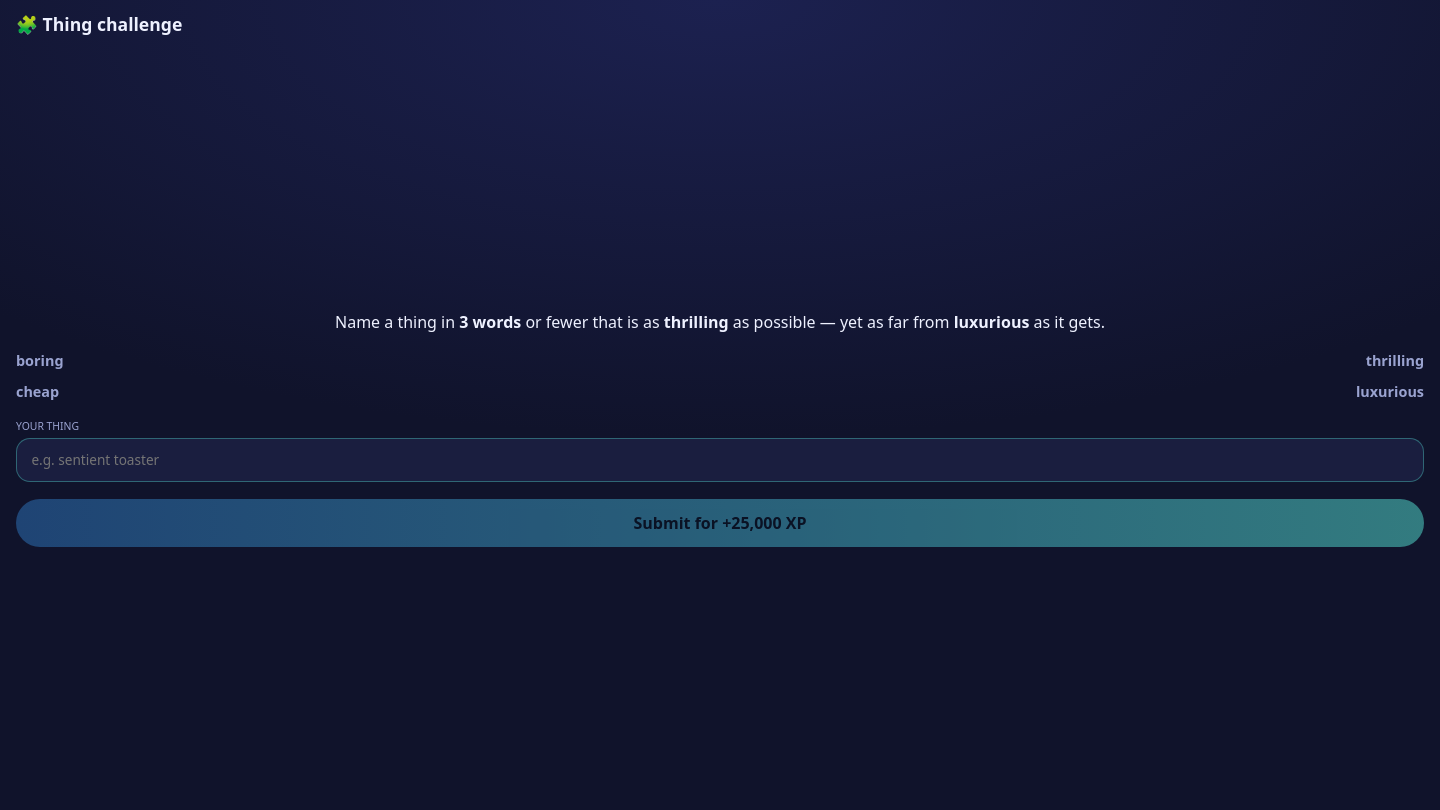
Scenario: ChallengeScreen › surfaces a validation error and keeps the form
Type "one two three four" into the field labelled "Your thing" at (720, 460), box [16, 438, 1424, 482]
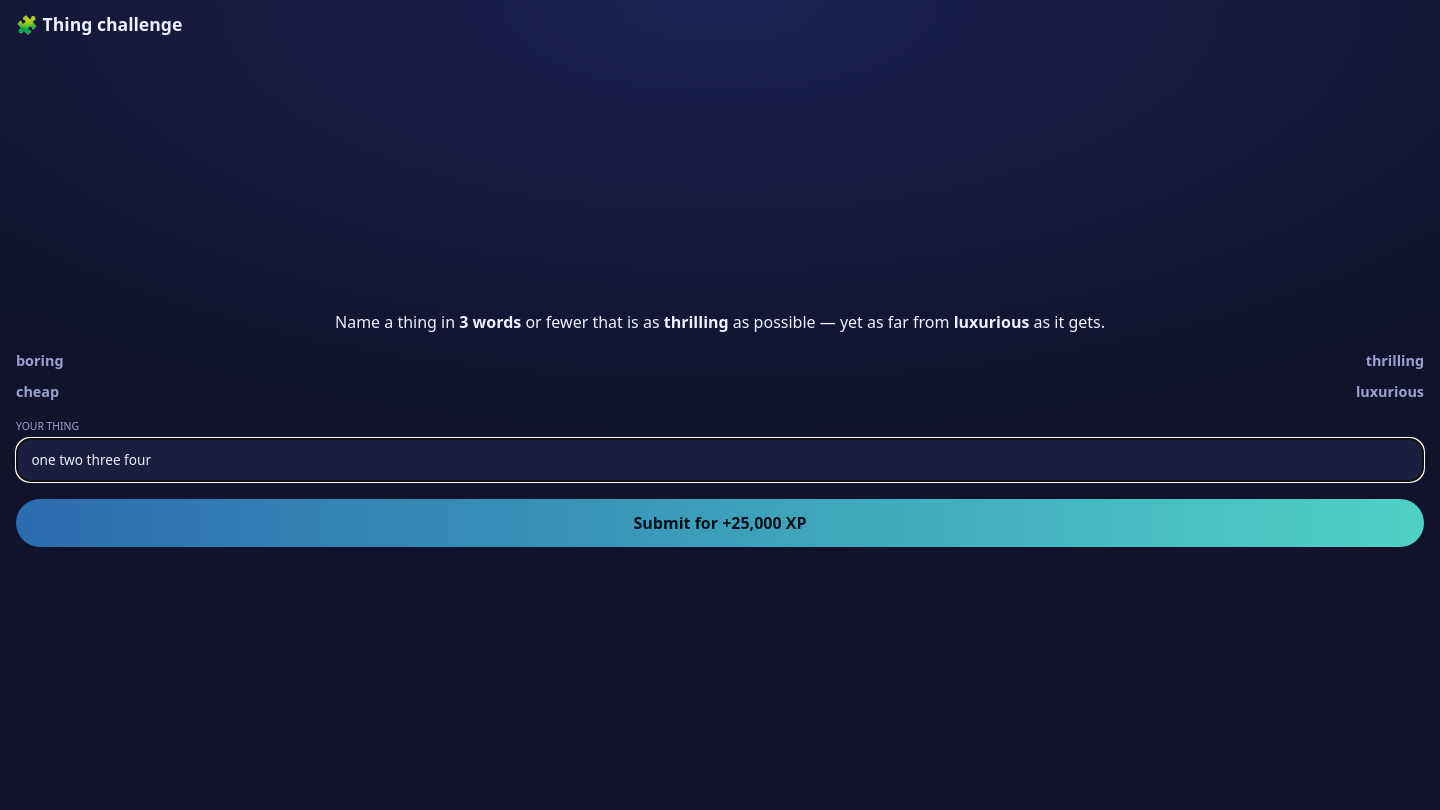
Click the button "Submit for +25,000 XP" at (720, 523), box [16, 499, 1424, 547]
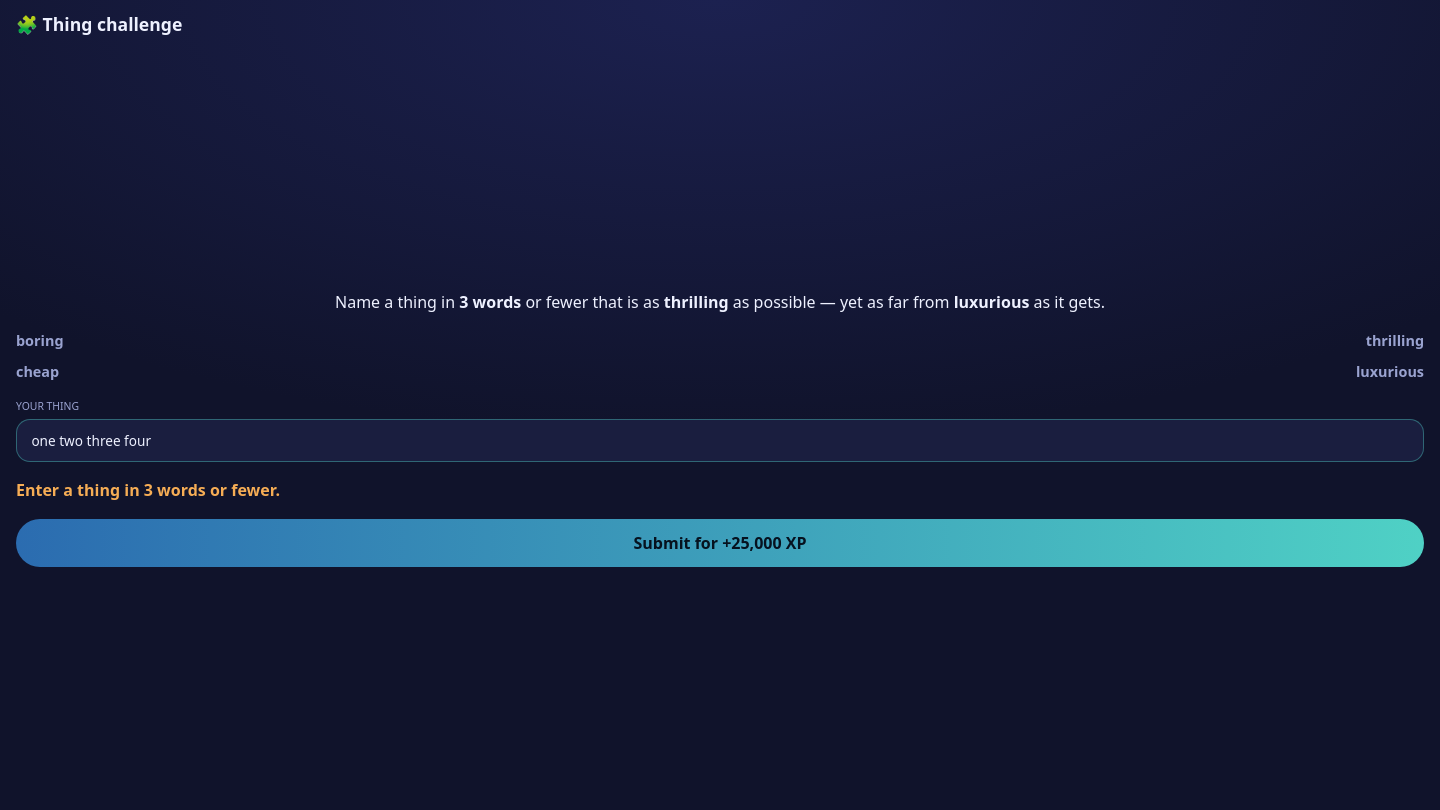
Now the message shows "3 words or fewer", box [16, 480, 280, 502]
